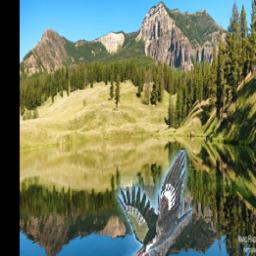Woodpecker: (116, 150, 193, 256)
